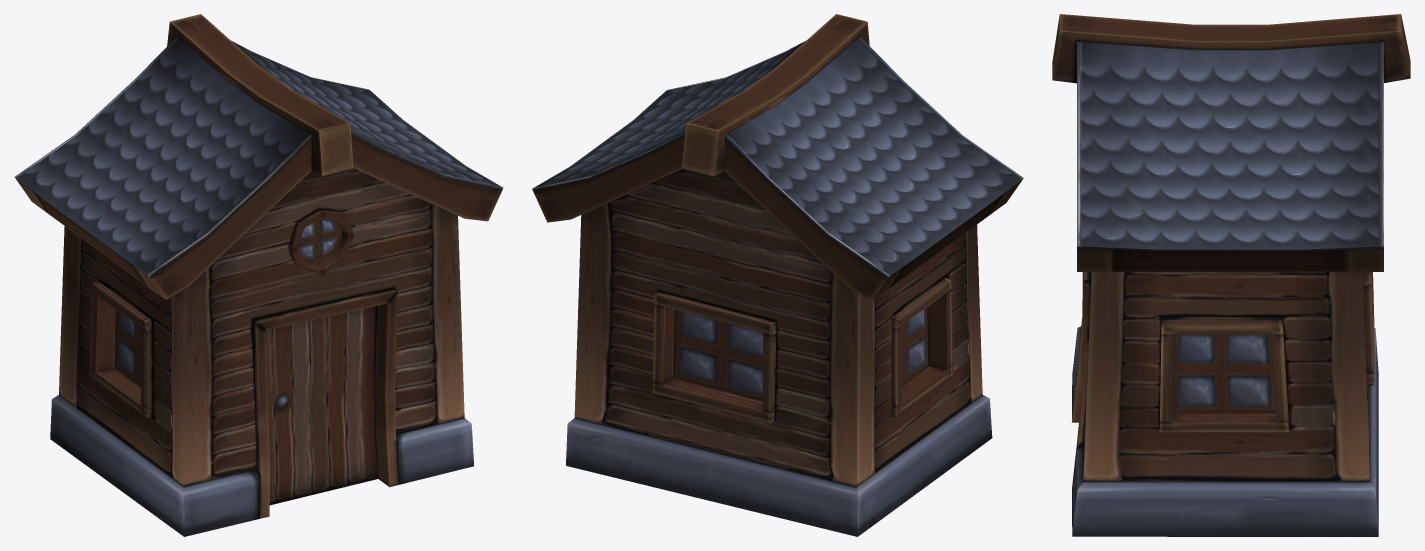
The model's file is house.glb.
The picture shows the model from 3 angles, left to right: view 1: azimuth 30°, elevation 25°; view 2: azimuth 150°, elevation 25°; view 3: azimuth 270°, elevation 25°; orthographic projection. The views are drawn at different scales.
Visible parts, largest first — view 1: House; view 2: House; view 3: House.
Boxes of the visible parts, x1,y1,x2,y2 form: House: [14, 14, 503, 536]; House: [532, 14, 1023, 536]; House: [1052, 14, 1410, 536].
Size of what is drawn, in the model's own units: 6.19 by 6.32 by 4.74.
1 material, 1 textured.
